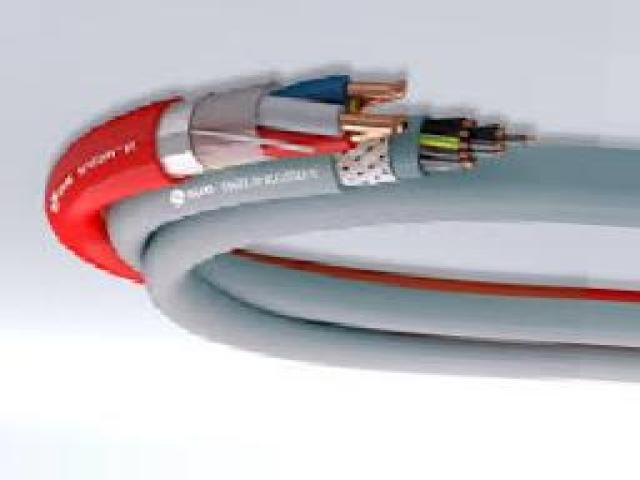wire: (42, 64, 638, 380)
